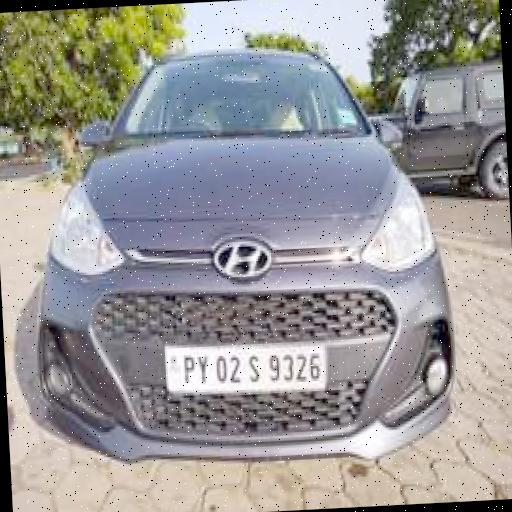license_plate`: (162, 333, 325, 394)
